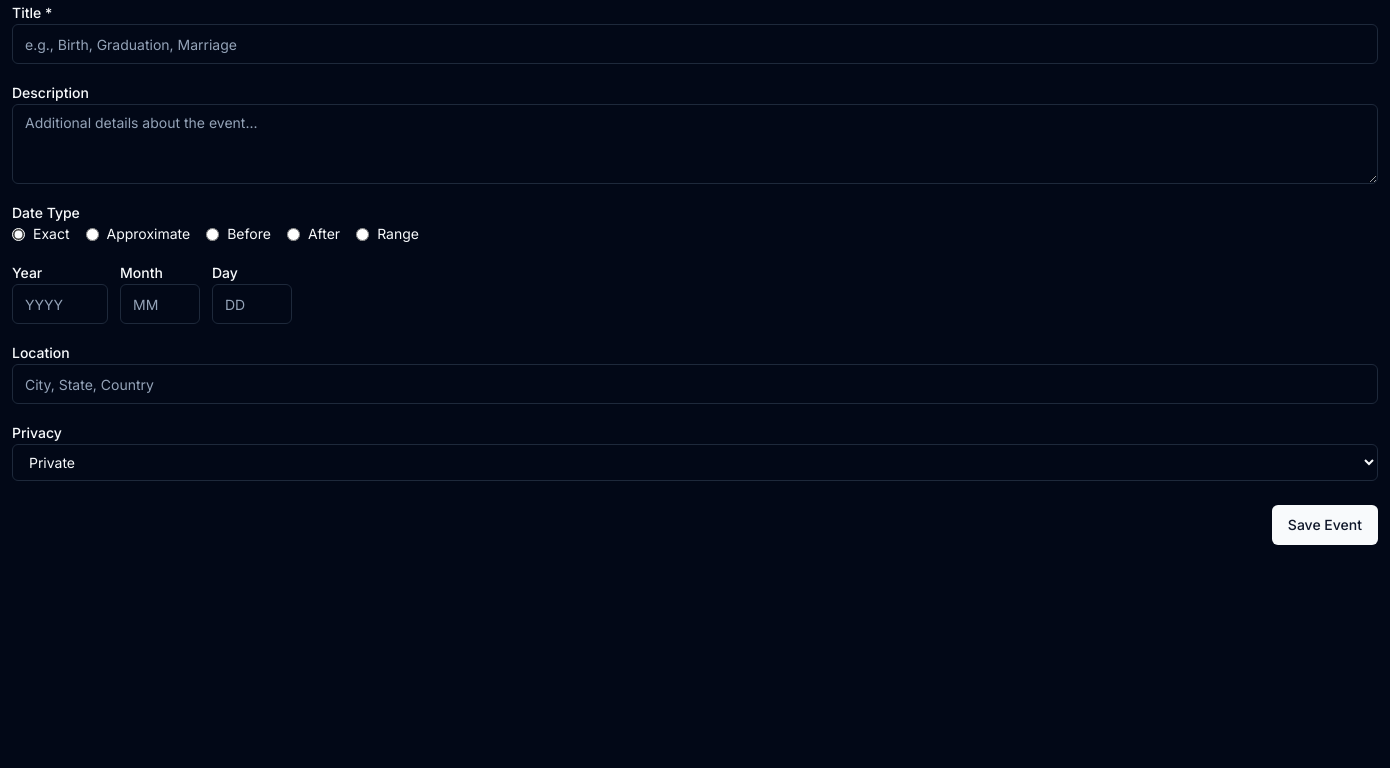
Test: EventForm › Date Range › should show end year field only for range type
Expected: the field labelled "end year" is not shown
Note: Select range type
What coordinates should you click on to do the following:
click the radio button labelled "range"
I would click on:
 (363, 234)
Its box is 356,228 -> 369,240.
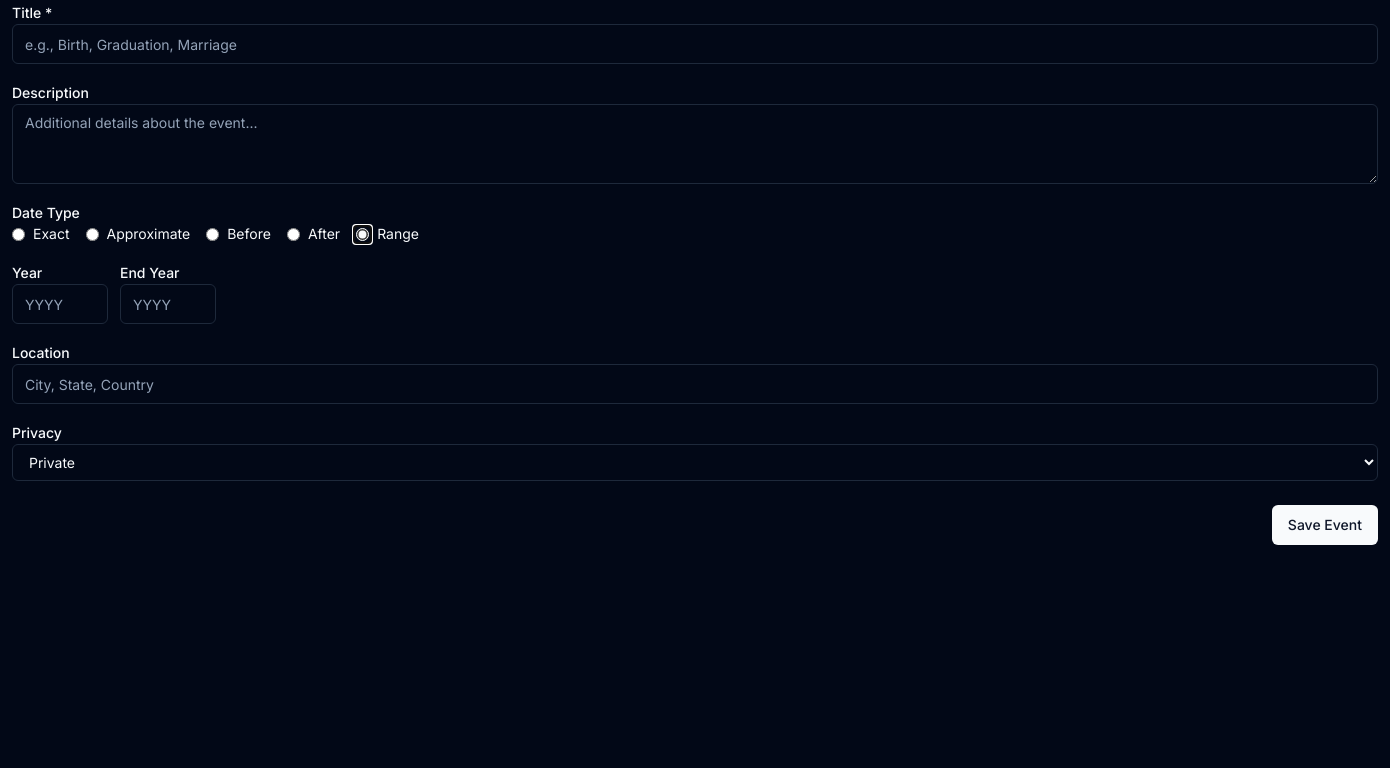
Expected: the number field labelled "End Year" is shown, 120,284 -> 216,324
